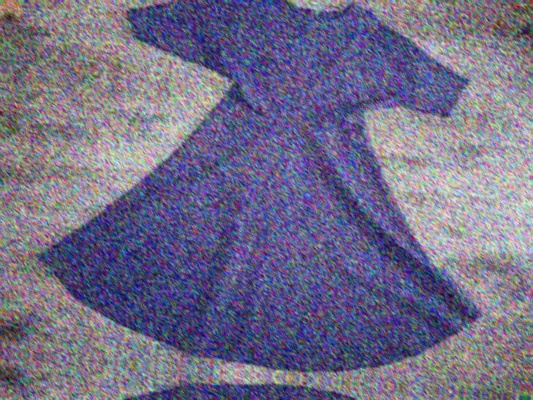Dress: (27, 0, 517, 376), (0, 374, 482, 400)
